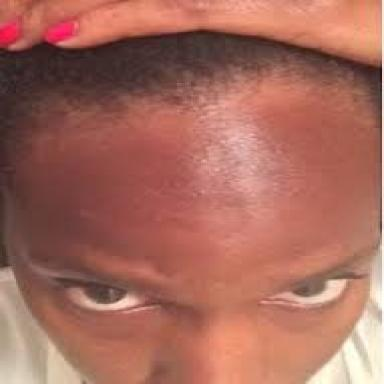burn: (21, 99, 382, 290)
